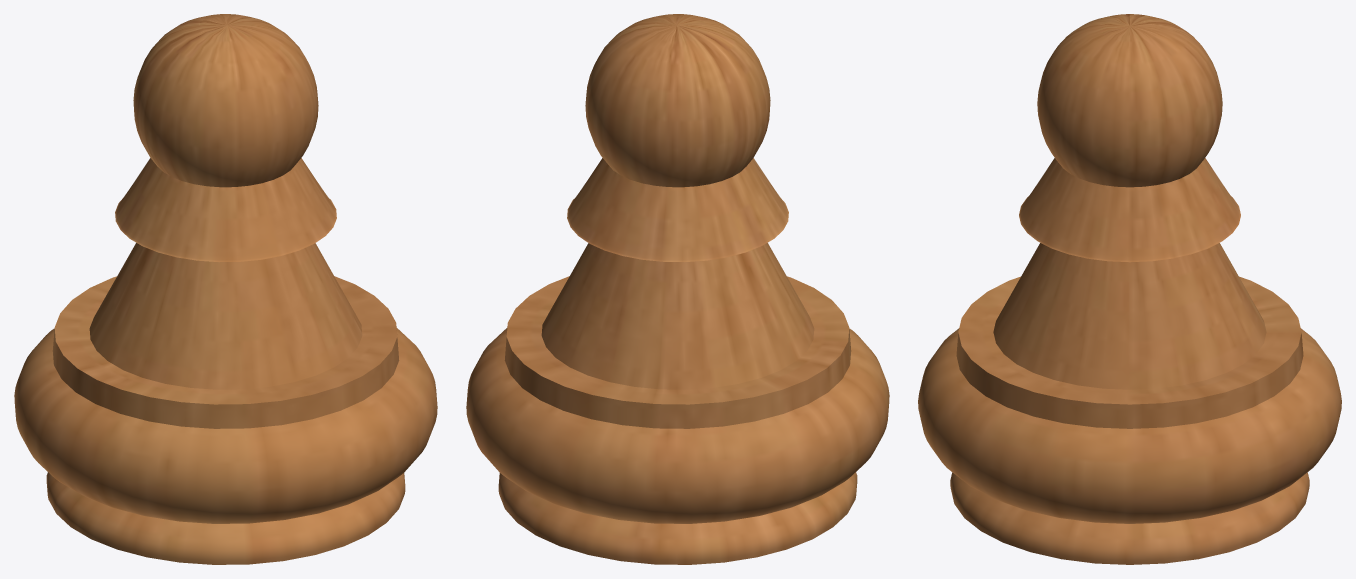
The model's file is WhitePawn.FBX.
The picture shows the model from 3 angles, left to right: view 1: azimuth 30°, elevation 25°; view 2: azimuth 150°, elevation 25°; view 3: azimuth 270°, elevation 25°; orthographic projection.
Visible parts, largest first — view 1: PawnW1; view 2: PawnW1; view 3: PawnW1.
Part boxes in pixels (x1=…): PawnW1: x1=14, y1=14, x2=437, y2=564; PawnW1: x1=466, y1=14, x2=889, y2=564; PawnW1: x1=918, y1=14, x2=1341, y2=564.
Bounding box in the file's own units: 0.1312 × 0.1312 × 0.1584.
Materials: 1 (1 with a texture image).
